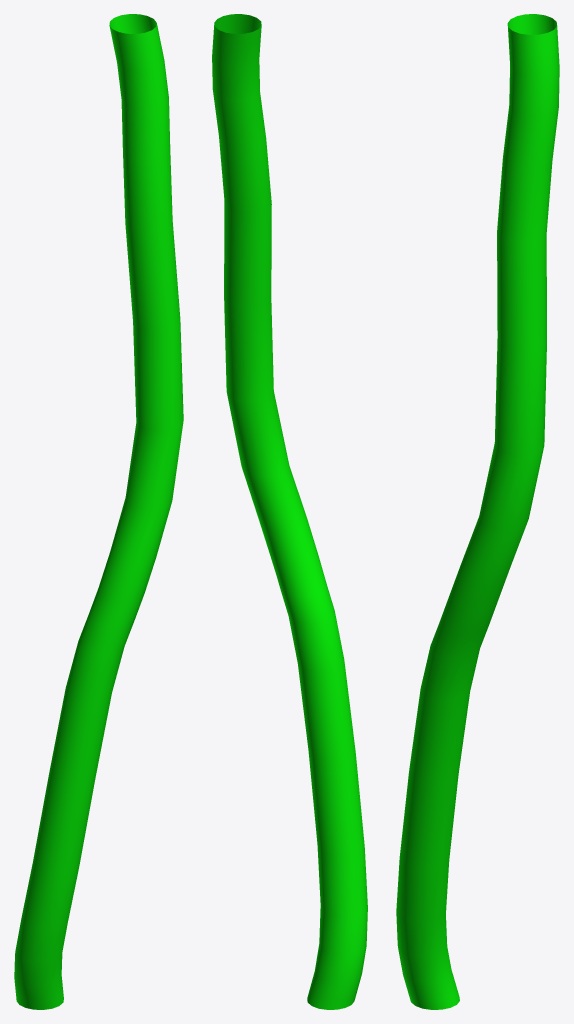
The model's file is wire_fixed_1.gltf.
3 renders of one model, left to right at view 1: azimuth 30°, elevation 25°; view 2: azimuth 150°, elevation 25°; view 3: azimuth 330°, elevation 25°, orthographic. The views are drawn at different scales.
Parts seen in each view (by area): view 1: wire_fixed_1c.002; view 2: wire_fixed_1c.002; view 3: wire_fixed_1c.002.
Boxes of the visible parts, x1,y1,x2,y2 form: wire_fixed_1c.002: (14,14,183,1009); wire_fixed_1c.002: (212,14,367,1009); wire_fixed_1c.002: (396,14,559,1009).
Bounding box in the file's own units: 0.255 × 1.56 × 0.1392.
